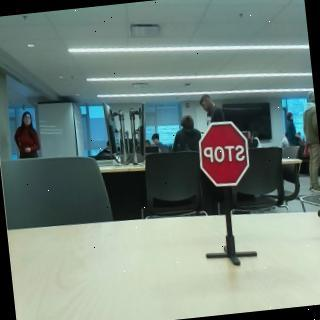sign_stop: (196, 119, 254, 189)
